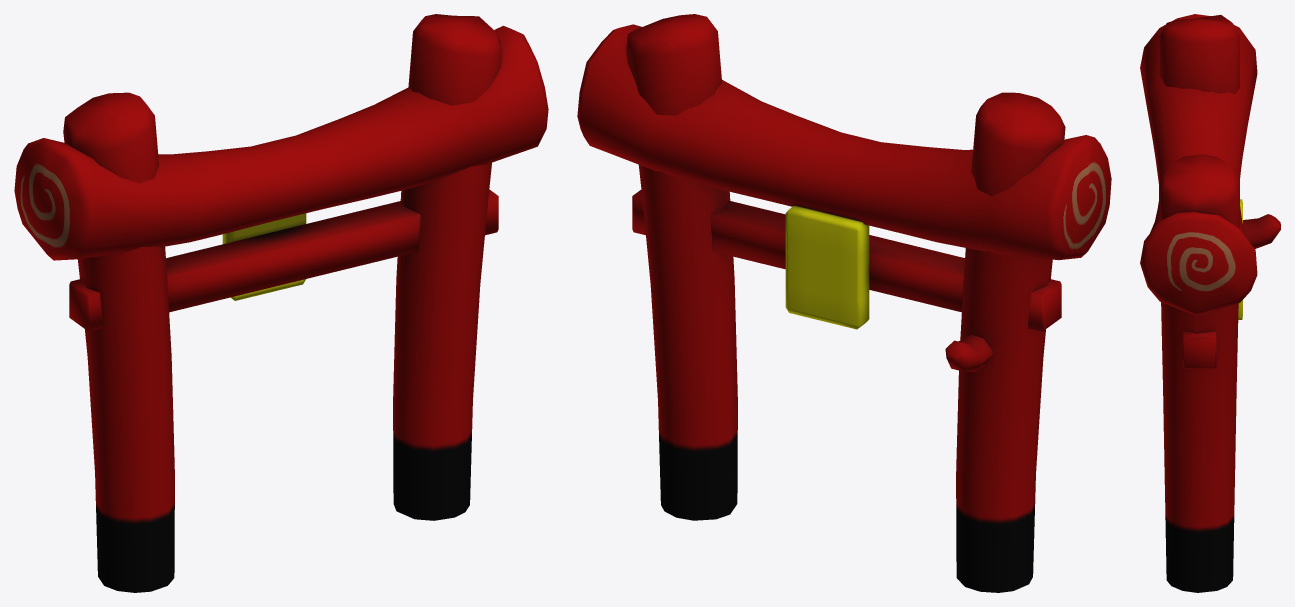
File: torbogenV2-2_low.fbx
The picture shows the model from 3 angles, left to right: view 1: azimuth 30°, elevation 25°; view 2: azimuth 150°, elevation 25°; view 3: azimuth 270°, elevation 25°; orthographic projection. The views are drawn at different scales.
Parts seen in each view (by area): view 1: RetopoGroup2, polySurface1, polySurface2, Cube, Cube_Chamfer; view 2: RetopoGroup2, polySurface1, polySurface2, Cube, Cube_Chamfer, RetopoGroup3; view 3: polySurface1, RetopoGroup2, polySurface2, Cube, RetopoGroup3.
Part boxes in pixels (bbox=[...]): RetopoGroup2: bbox=[14, 25, 548, 260]; polySurface1: bbox=[393, 14, 502, 520]; polySurface2: bbox=[63, 92, 174, 592]; Cube: bbox=[69, 189, 498, 331]; Cube_Chamfer: bbox=[222, 213, 306, 300]; RetopoGroup2: bbox=[577, 24, 1111, 260]; polySurface1: bbox=[626, 14, 737, 520]; polySurface2: bbox=[956, 92, 1065, 592]; Cube: bbox=[632, 190, 1061, 331]; Cube_Chamfer: bbox=[785, 205, 869, 329]; RetopoGroup3: bbox=[945, 334, 993, 371]; polySurface1: bbox=[1159, 154, 1239, 592]; RetopoGroup2: bbox=[1140, 14, 1257, 315]; polySurface2: bbox=[1159, 15, 1239, 94]; Cube: bbox=[1183, 331, 1216, 368]; RetopoGroup3: bbox=[1243, 214, 1280, 248].
Bounding box in the file's own units: 227 × 214 × 64.9.
